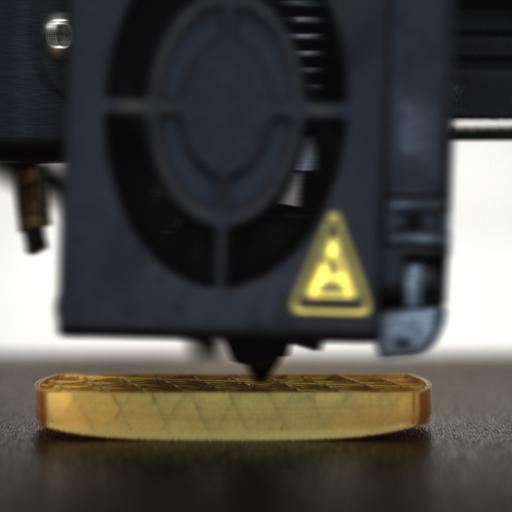warp: (366, 404, 436, 444), (27, 404, 85, 440)
